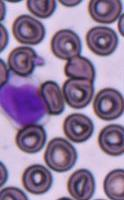M: (0, 76, 49, 129)
